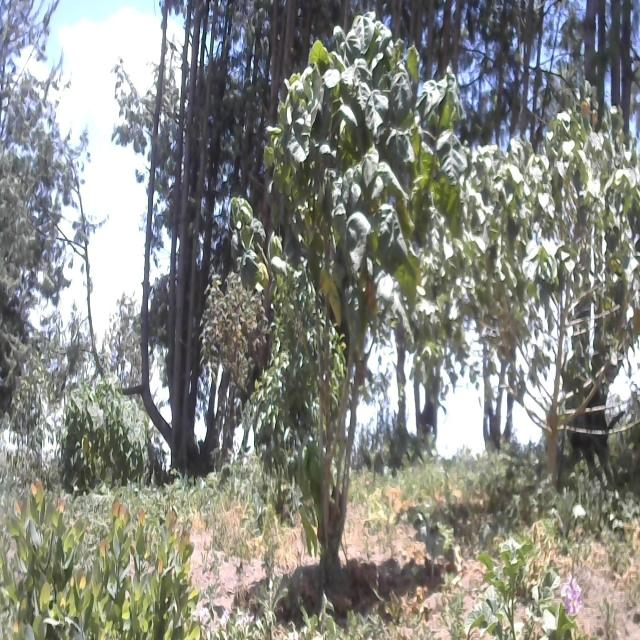Syzygium gineense: (0, 464, 197, 634)
other: (232, 0, 470, 572), (472, 109, 640, 487), (56, 358, 158, 494)
